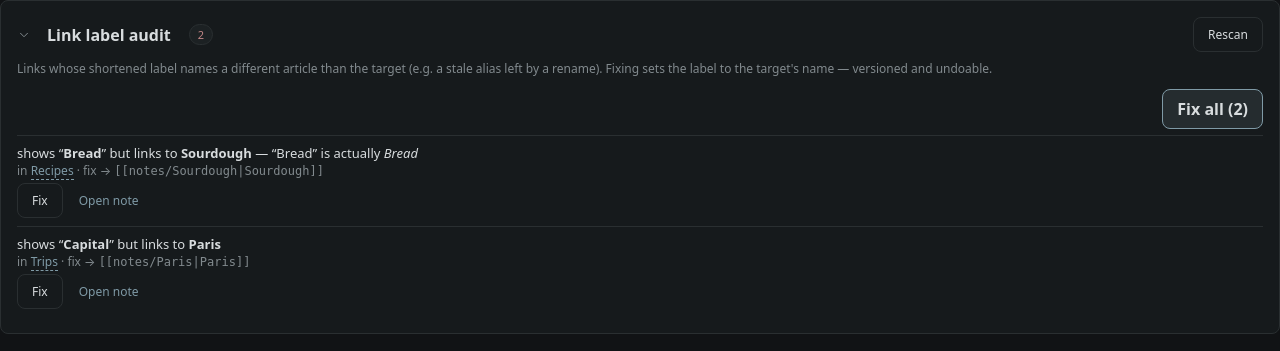
Scenario: LinkAuditPanel — fix all / rescan › Fix all confirms, posts to /audit/fix-all, then rescans (list clears)
Expected: the text "Links whose shortened label" is shown, [17, 60, 992, 77]
Click the button "Fix all (2)". click: click(1213, 109)
box: [1162, 89, 1263, 129]
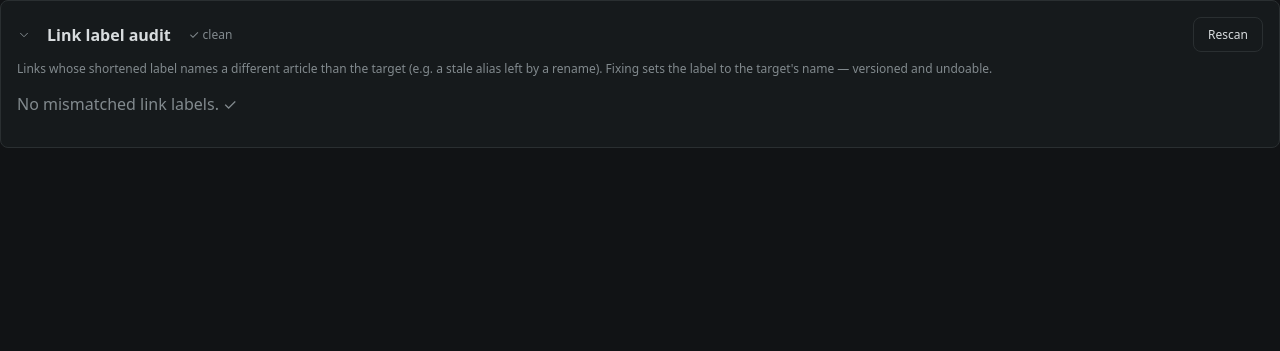
Now the text "No mismatched link labels. ✓" is shown, box [17, 93, 237, 115]
